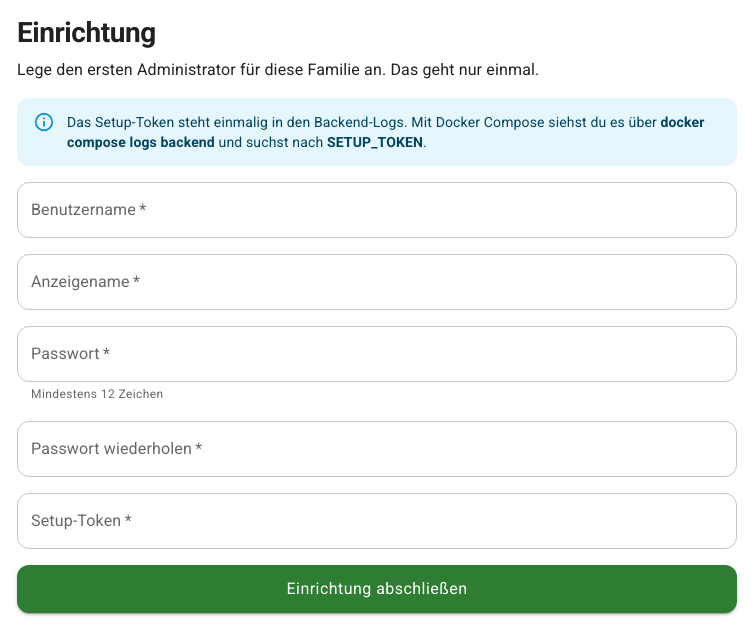
Test: schließt die Einrichtung ab und wechselt zur Anmeldung
Expected: the heading "Einrichtung" is shown, [17,16,156,49]
Type "Ada" into the field with test id "setup-username".
click(377, 210); type("Ada")  # box [17,182,737,238]
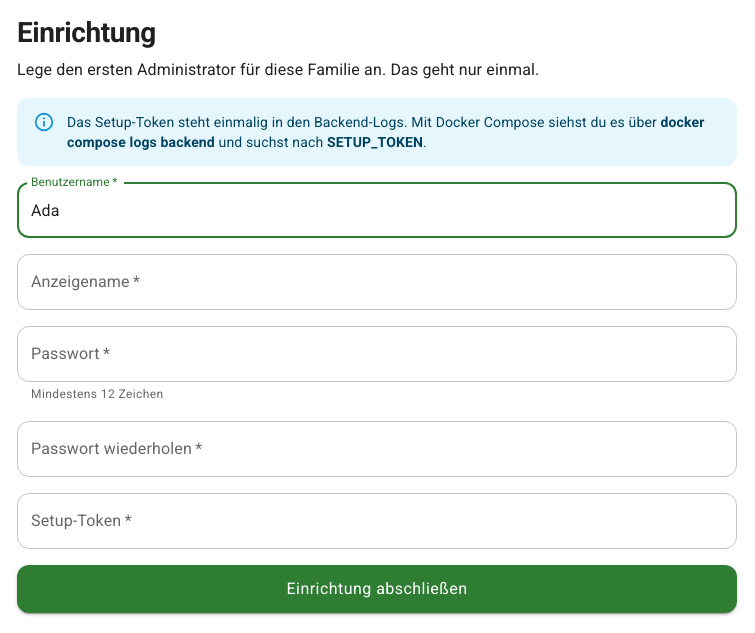
Type "Ada Lovelace" into the field with test id "setup-display-name".
click(377, 282); type("Ada Lovelace")  # box [17,254,737,310]
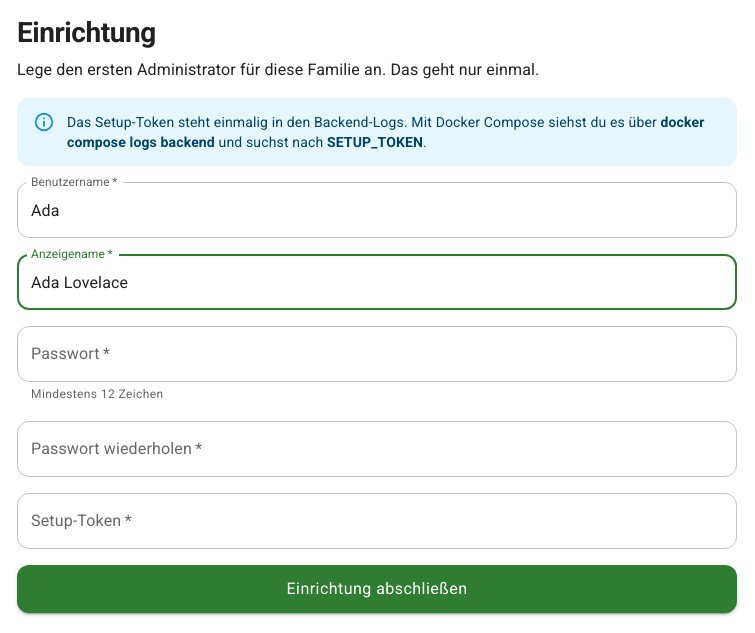
Type "ein-langes-passwort" into the password field with test id "setup-password".
click(377, 354); type("ein-langes-passwort")  # box [17,326,737,382]
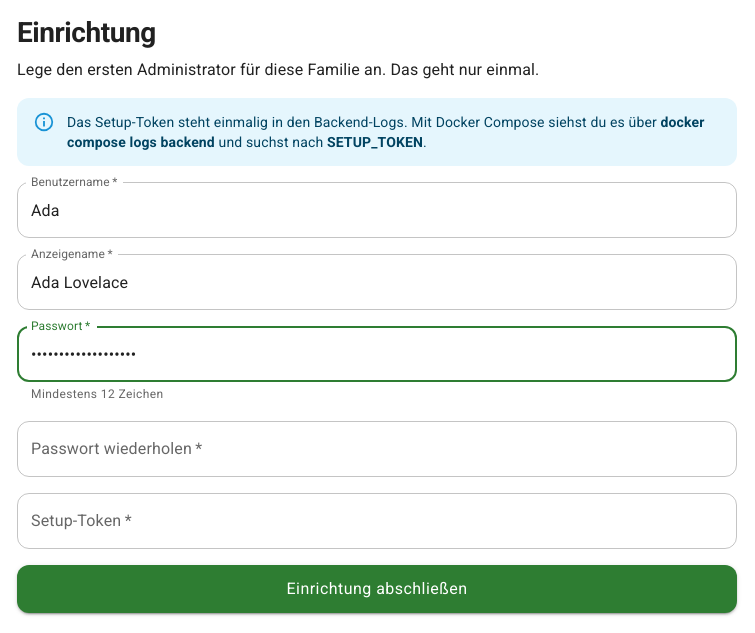
Type "ein-langes-passwort" into the password field with test id "setup-password-confirm".
click(377, 449); type("ein-langes-passwort")  # box [17,421,737,477]
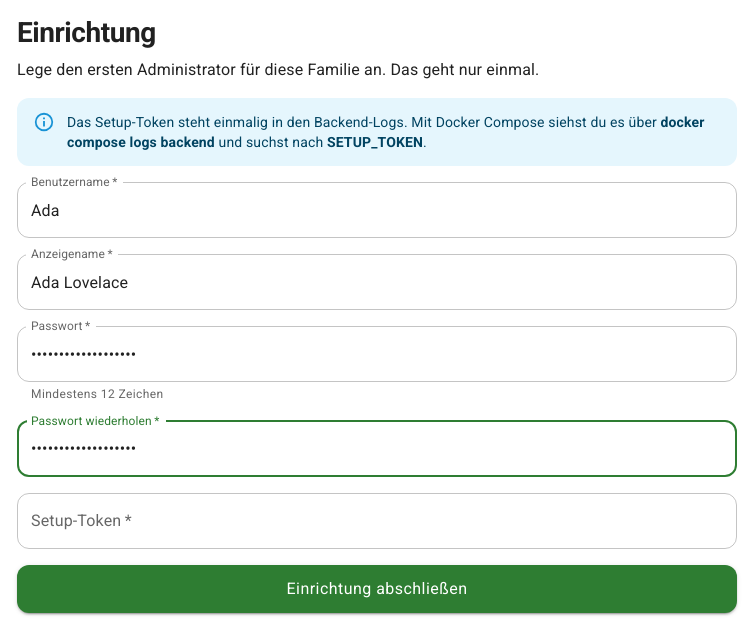
Type "token-wert" into the field with test id "setup-token".
click(377, 521); type("token-wert")  # box [17,493,737,549]
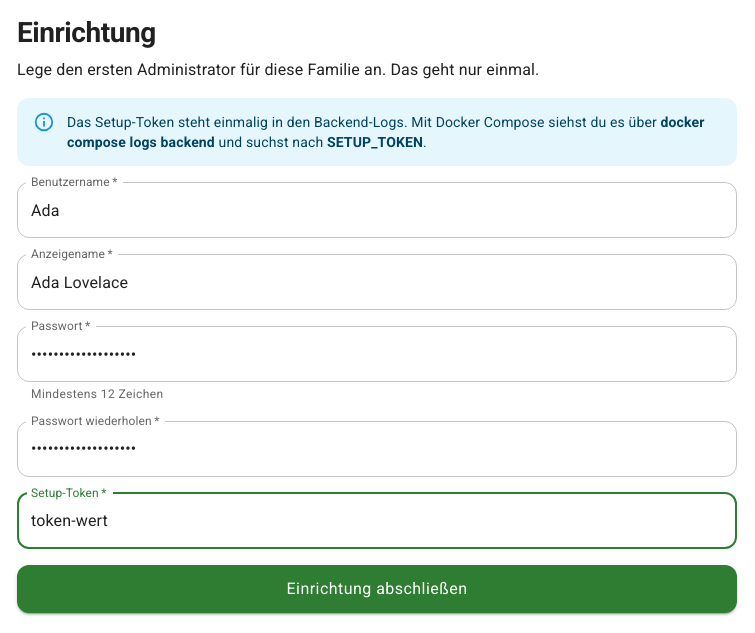
Click the button with test id "setup-submit".
click(377, 589)  # box [17,565,737,613]
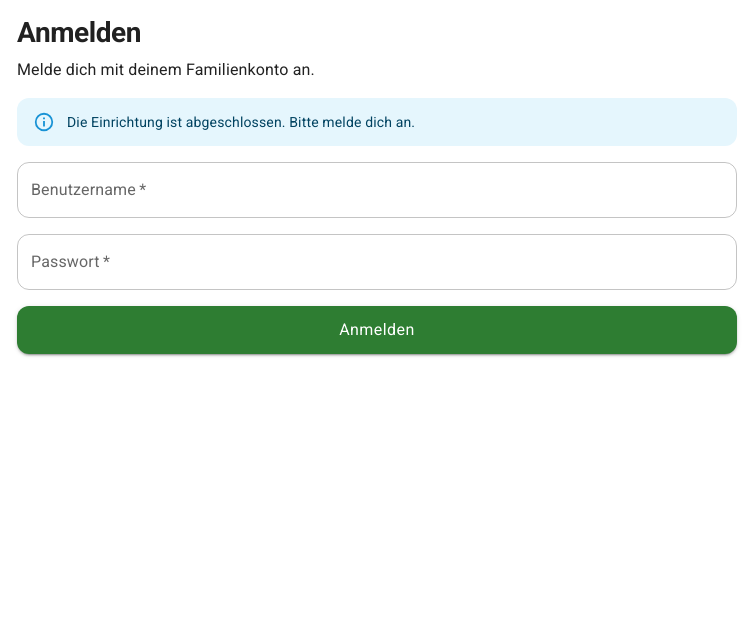
Expected: the heading "Anmelden" is shown, [17,16,141,49]
Expected: the message shows "Die Einrichtung ist abgeschlossen", [67,114,415,130]
